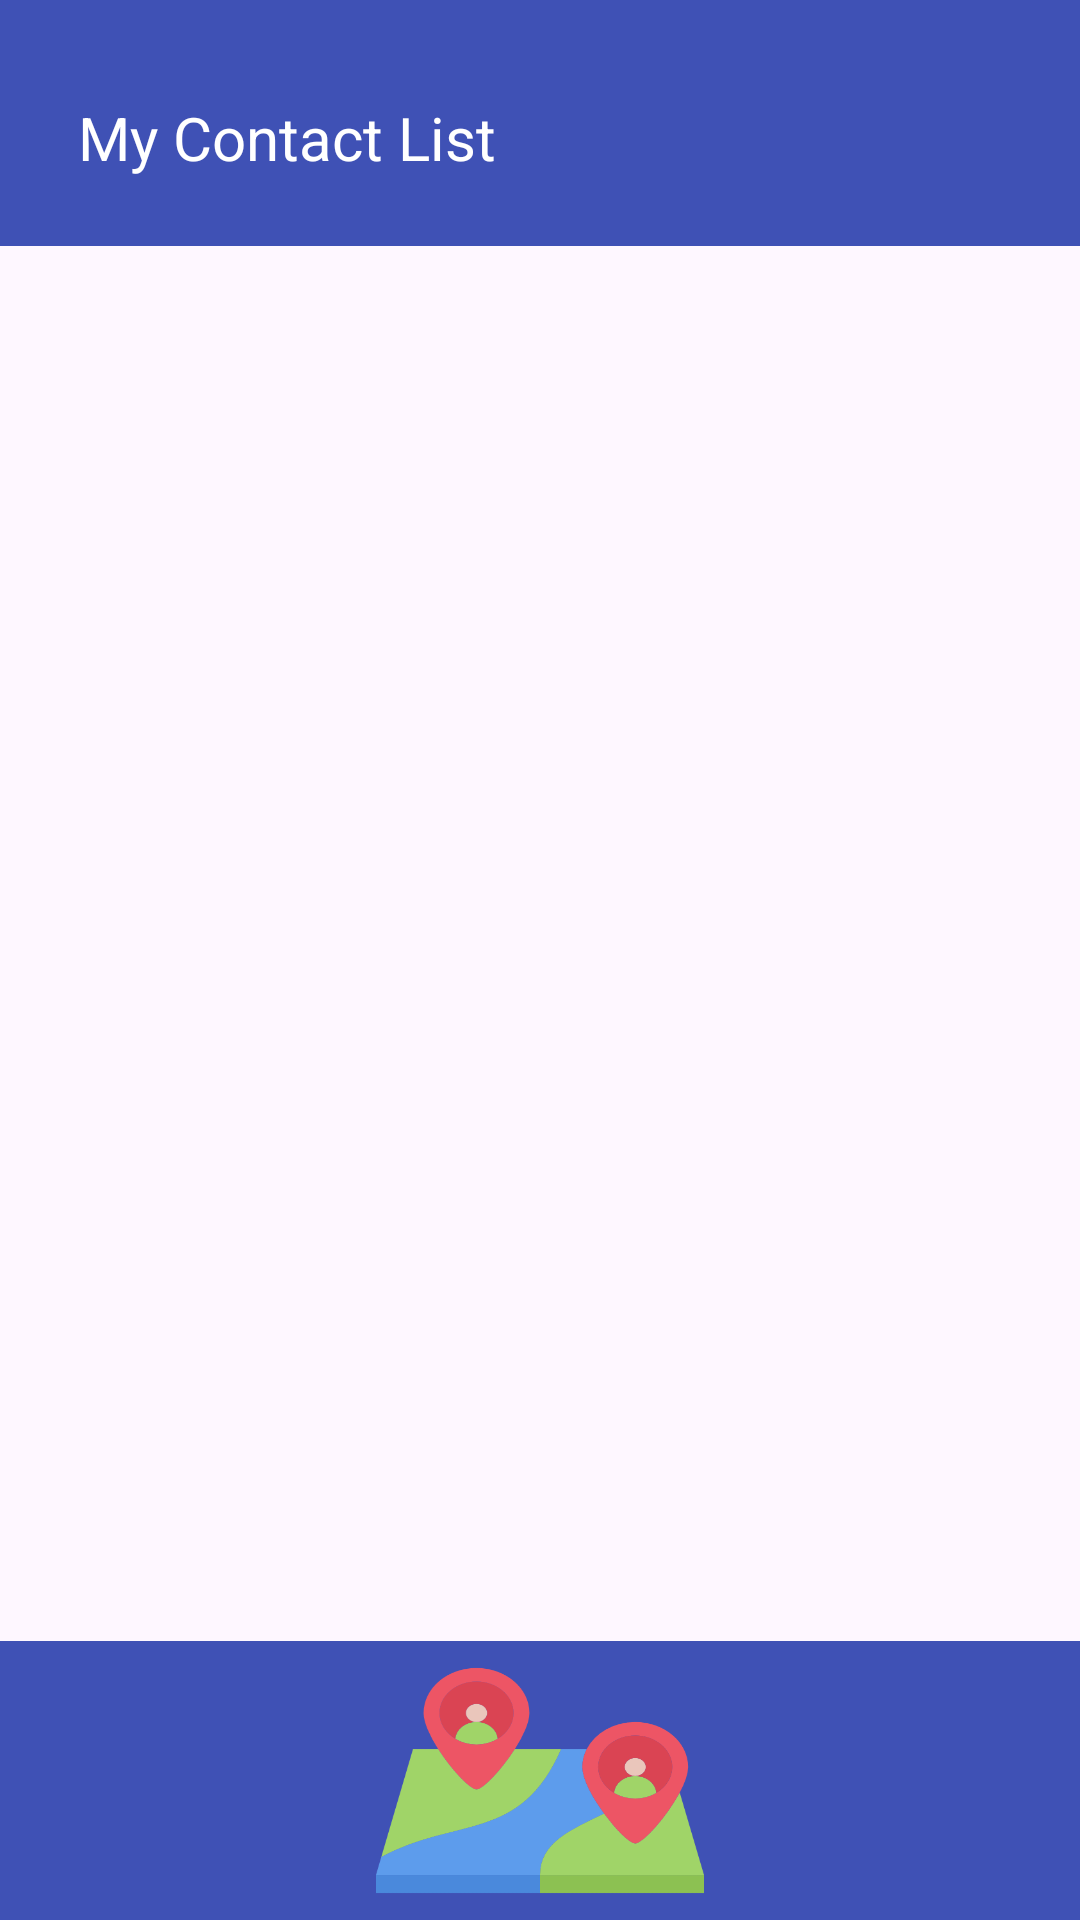

Icon bounding boxes for this 1080px x 1920px phone screenshot, format (left=x1, top=y1, right=x2, bottom=y2):
map icon: (left=376, top=1668, right=704, bottom=1893)
